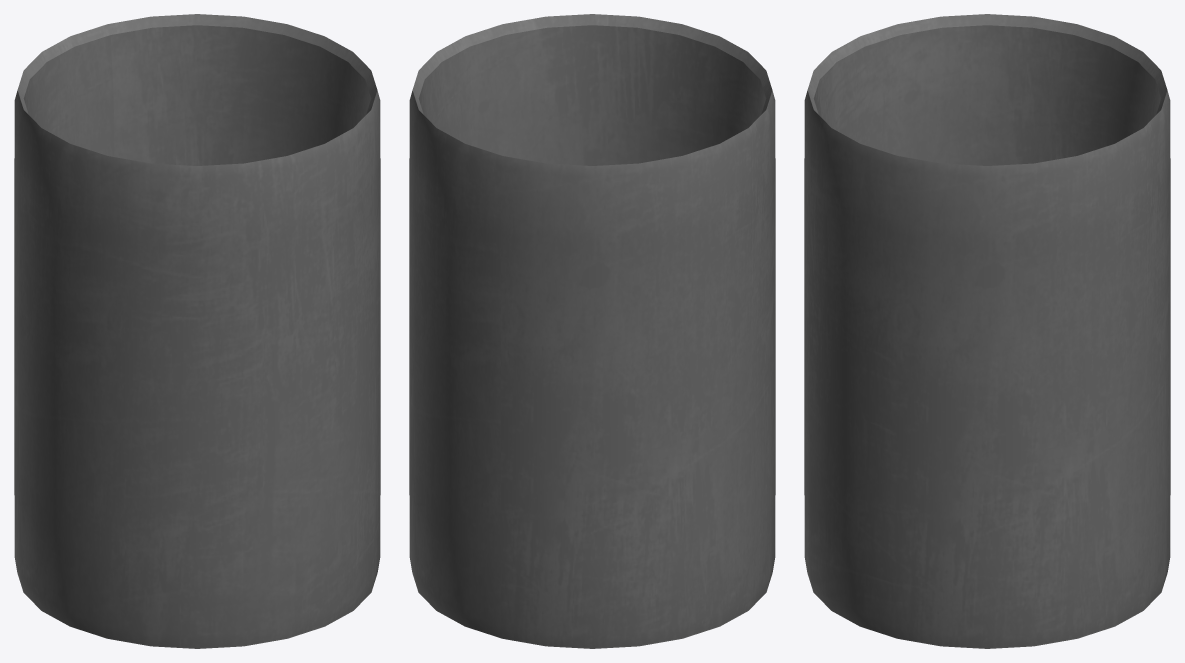
Rendered from trash_clutter_1.fbx.
3 renders of one model, left to right at view 1: azimuth 30°, elevation 25°; view 2: azimuth 150°, elevation 25°; view 3: azimuth 270°, elevation 25°, orthographic.
Visible parts, largest first — view 1: trash can; view 2: trash can; view 3: trash can.
Part boxes in pixels (x1,y1,x2,y2): trash can: [14, 14, 380, 648]; trash can: [409, 14, 775, 648]; trash can: [804, 14, 1170, 648].
Bounding box in the file's own units: 33.81 × 49.47 × 33.81.
Materials: 1 (1 with a texture image).
